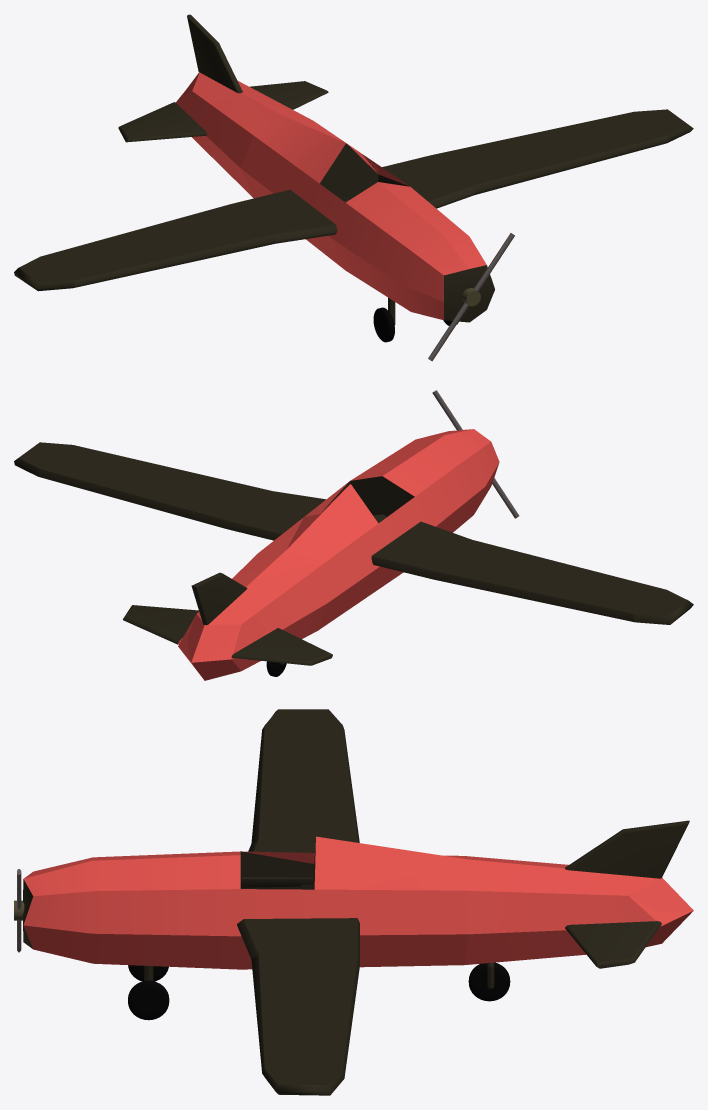
Rendered from Avion.fbx.
3 views of the same model, one above another, from view 1: azimuth 30°, elevation 25°; view 2: azimuth 150°, elevation 25°; view 3: azimuth 270°, elevation 25° (orthographic). The views are drawn at different scales.
Parts seen in each view (by area): view 1: Cuerpo.002, Alas.001, Helice.001, Rueda[1].001; view 2: Cuerpo.002, Alas.001, Helice.001; view 3: Cuerpo.002, Alas.001, Rueda[2].001, Rueda[3].001.
Part boxes in pixels (bbox=[...]): Cuerpo.002: bbox=[118, 14, 494, 322]; Alas.001: bbox=[14, 109, 693, 291]; Helice.001: bbox=[428, 233, 514, 361]; Rueda[1].001: bbox=[373, 307, 394, 342]; Cuerpo.002: bbox=[123, 429, 499, 680]; Alas.001: bbox=[14, 442, 693, 624]; Helice.001: bbox=[432, 390, 519, 518]; Cuerpo.002: bbox=[23, 820, 693, 969]; Alas.001: bbox=[237, 709, 359, 1095]; Rueda[2].001: bbox=[128, 980, 169, 1020]; Rueda[3].001: bbox=[468, 962, 510, 1001].
Size of the model in its own units: 2344 by 515 by 1772.
